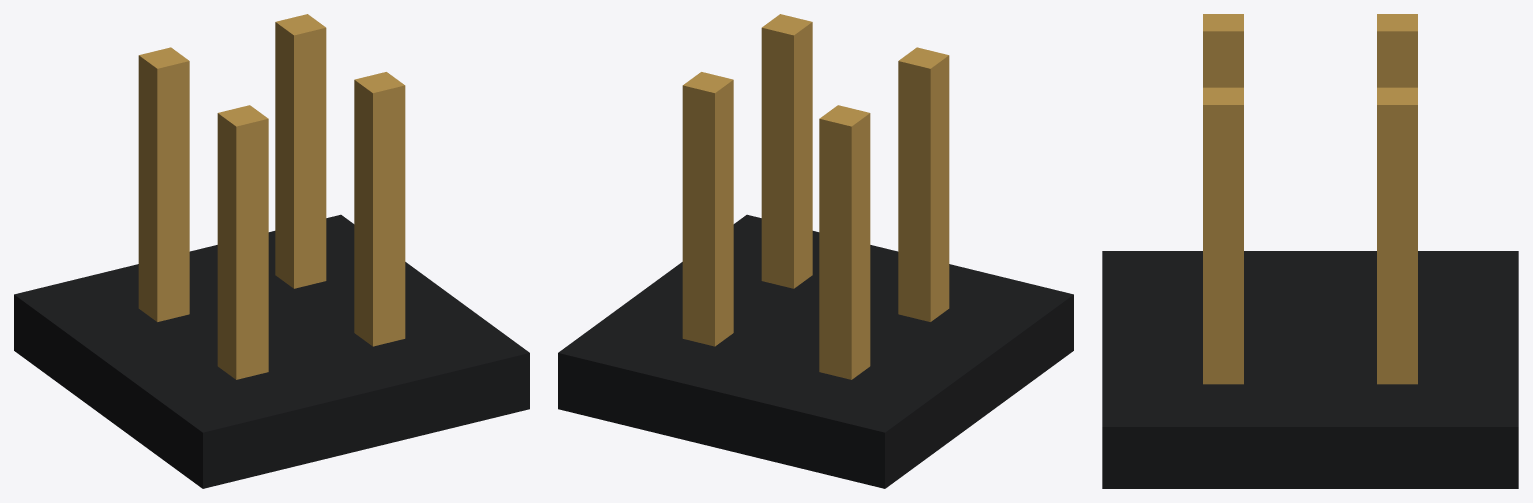
File: L130_JFP2.fbx
The picture shows the model from 3 angles, left to right: view 1: azimuth 30°, elevation 25°; view 2: azimuth 150°, elevation 25°; view 3: azimuth 270°, elevation 25°; orthographic projection. The views are drawn at different scales.
Parts seen in each view (by area): view 1: JFP2__Plastic, JFP2__Gold; view 2: JFP2__Plastic, JFP2__Gold; view 3: JFP2__Plastic, JFP2__Gold.
Part boxes in pixels (x1=…): JFP2__Plastic: x1=14, y1=214, x2=529, y2=488; JFP2__Gold: x1=138, y1=14, x2=405, y2=379; JFP2__Plastic: x1=558, y1=214, x2=1073, y2=488; JFP2__Gold: x1=682, y1=14, x2=949, y2=379; JFP2__Plastic: x1=1102, y1=251, x2=1518, y2=488; JFP2__Gold: x1=1203, y1=14, x2=1417, y2=384.
Bounding box in the file's own units: 6.08 × 5.5 × 6.08.
